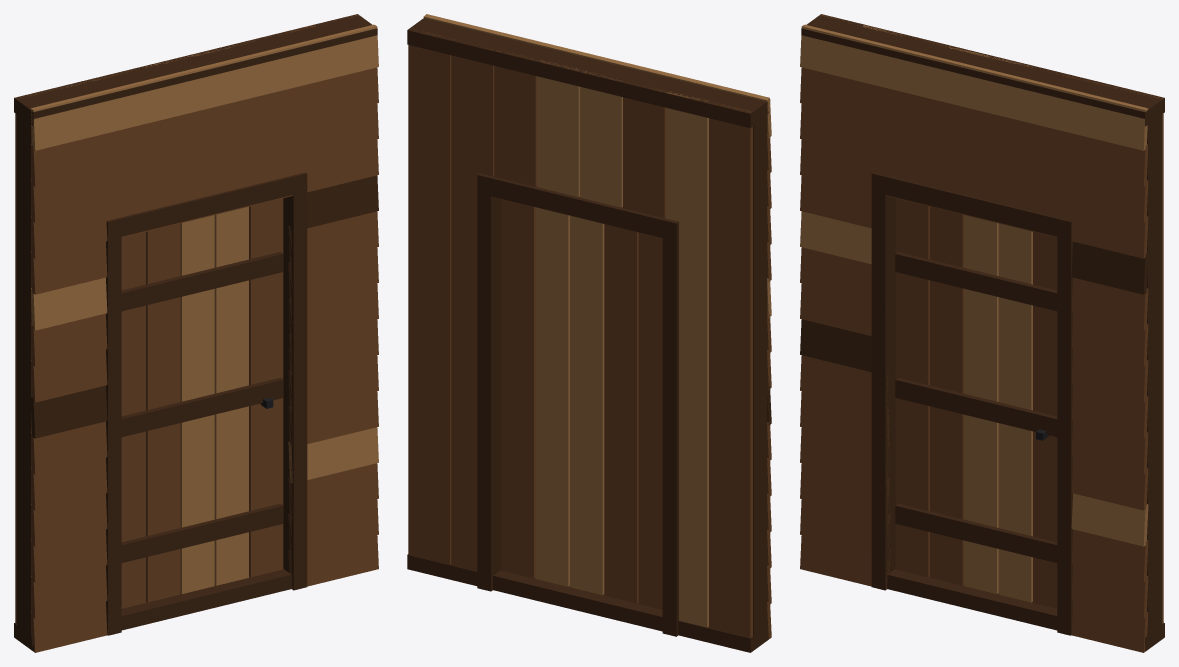
The model's file is SM_Wall_Plank_Door.obj.
3 views of the same model, side by side, from view 1: azimuth 30°, elevation 25°; view 2: azimuth 150°, elevation 25°; view 3: azimuth 330°, elevation 25° (orthographic).
Visible parts, largest first — view 1: SM_Wall_Plank_Door; view 2: SM_Wall_Plank_Door; view 3: SM_Wall_Plank_Door.
Boxes of the visible parts, x1,y1,x2,y2 form: SM_Wall_Plank_Door: [14, 14, 378, 652]; SM_Wall_Plank_Door: [407, 14, 771, 652]; SM_Wall_Plank_Door: [800, 14, 1164, 652].
Size of the model in its own units: 2 by 3.01 by 0.24.
